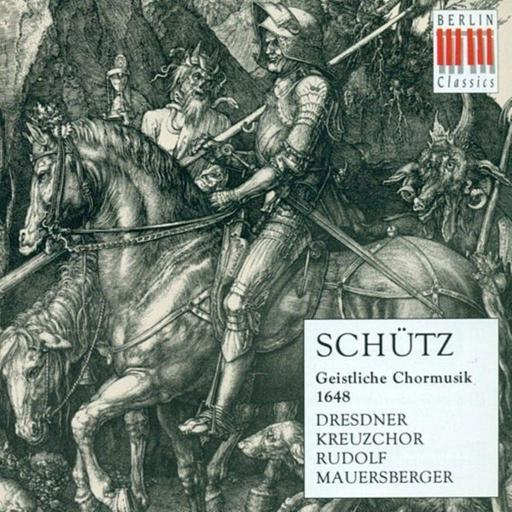horse: (18, 121, 511, 511), (0, 246, 303, 512)
